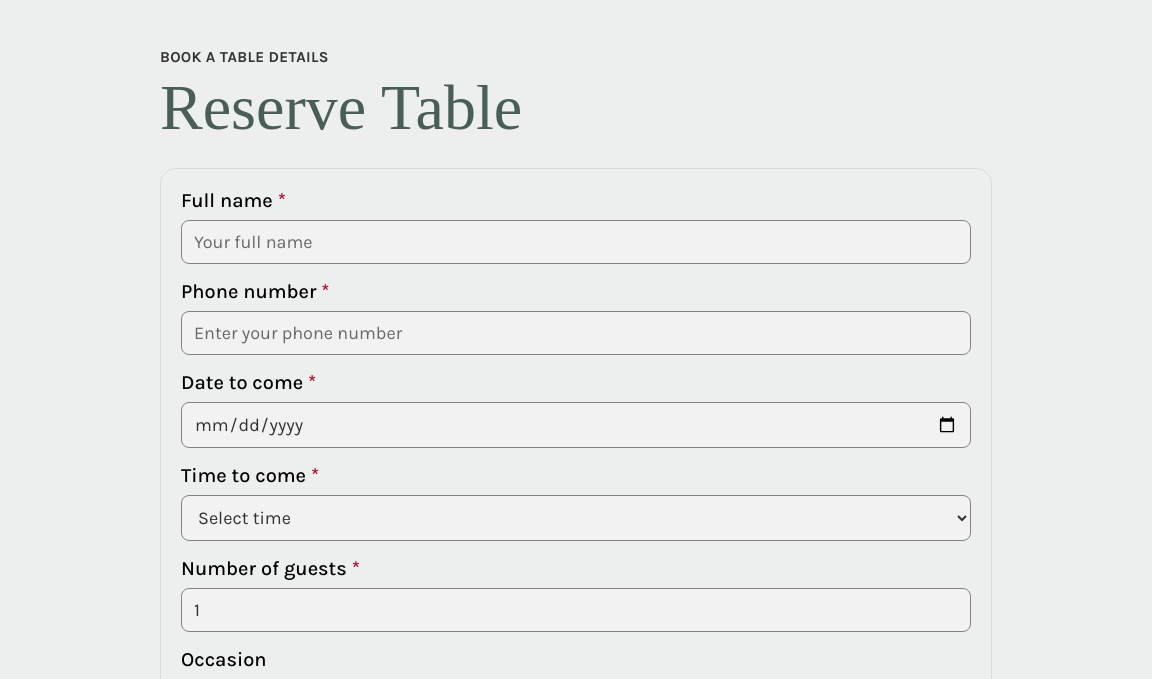
Test: submit remains disabled when time is missing
This screenshot has width=1152, height=679.
In the field labelled "Full name *": (576, 242) [181,220,971,264], type "Jim Johnson"
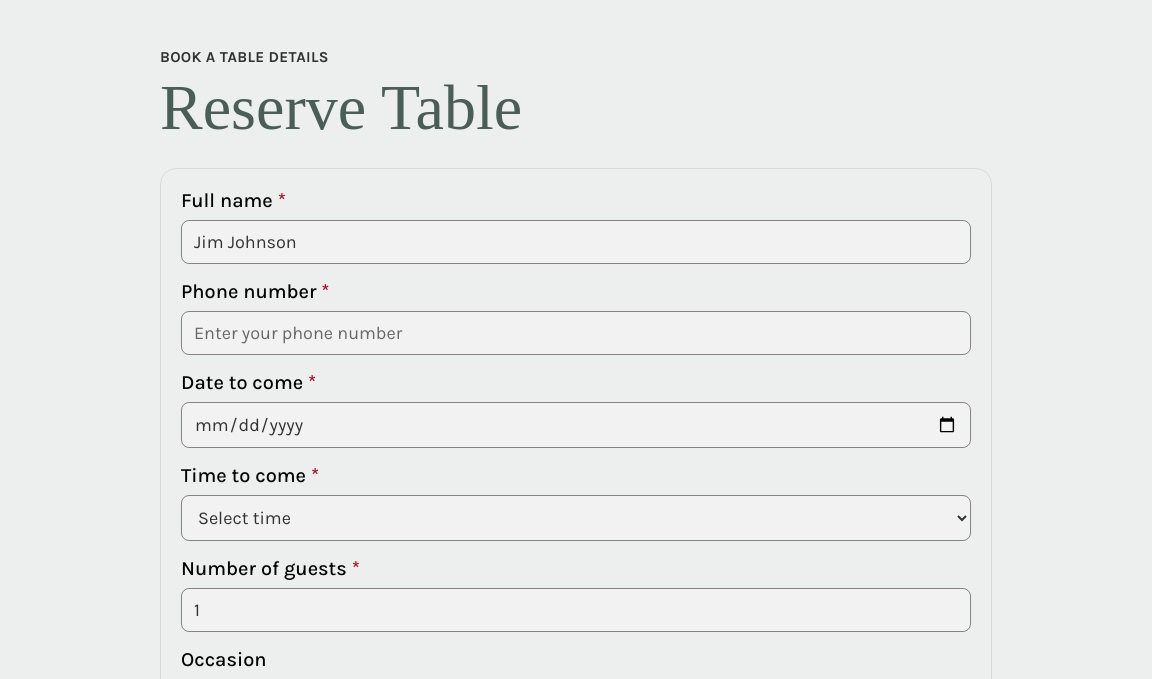
In the field labelled "Phone number *": (576, 333) [181,311,971,355], type "(555) 555-5555"
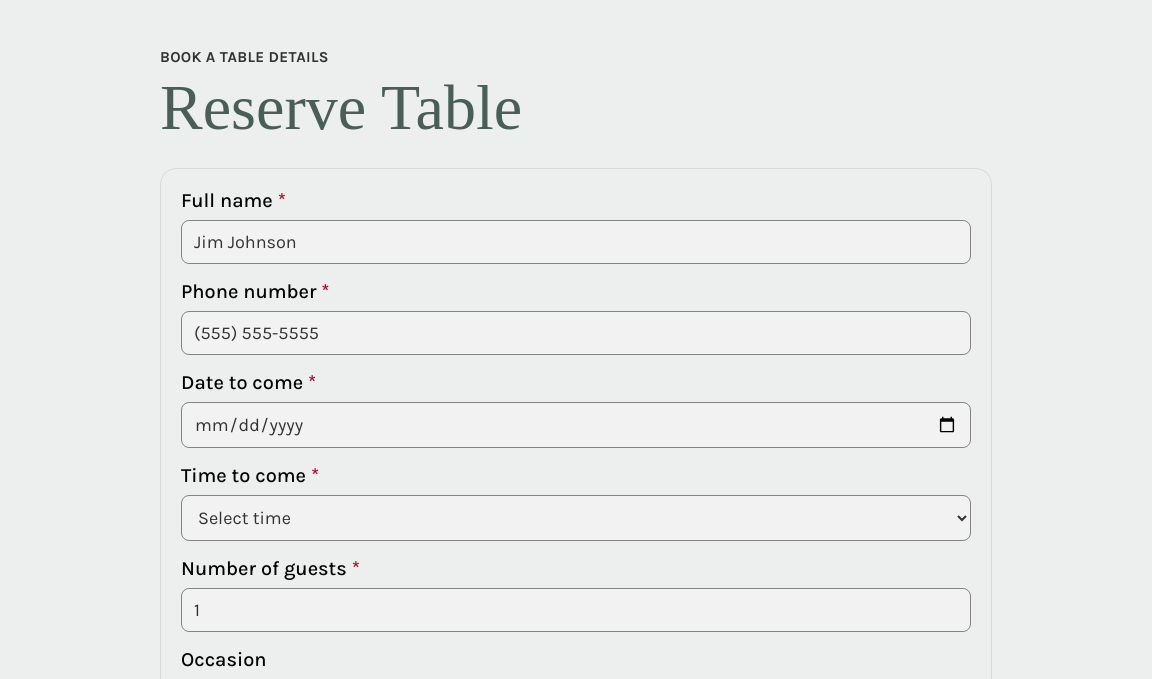
In the date field labelled "Date to come *": (576, 425) [181,402,971,448], type "2026-02-20"
(page scrolled)
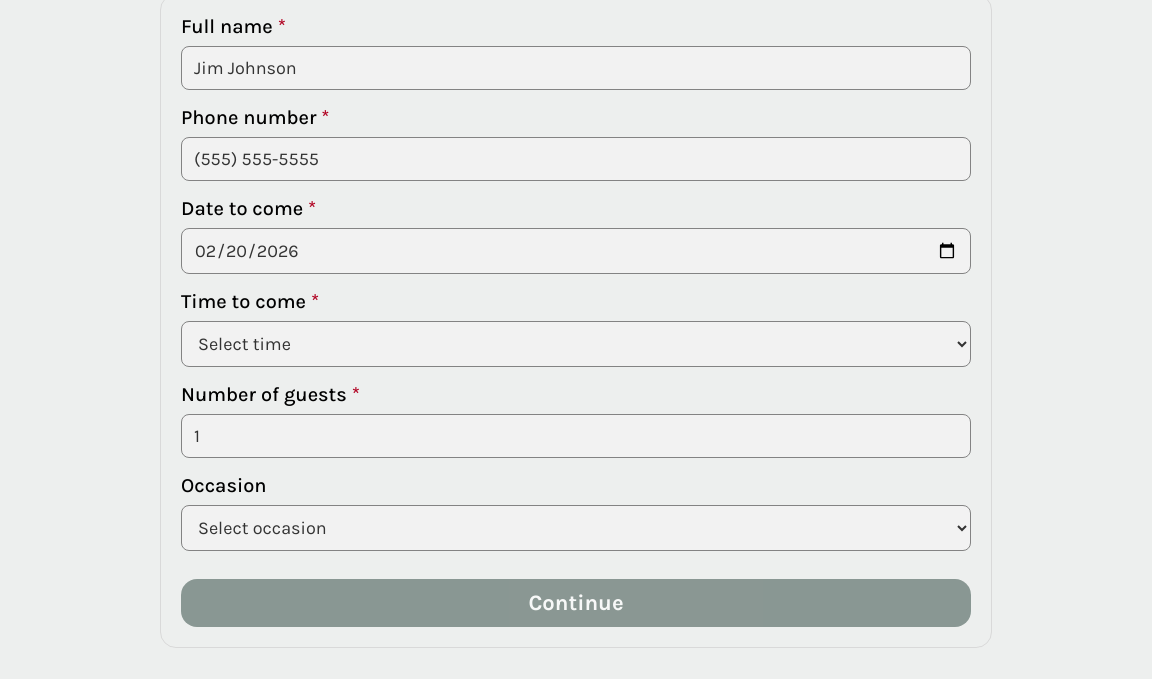
Select "Birthday" in the dropdown labelled "Occasion": (576, 528) [181,505,971,551]
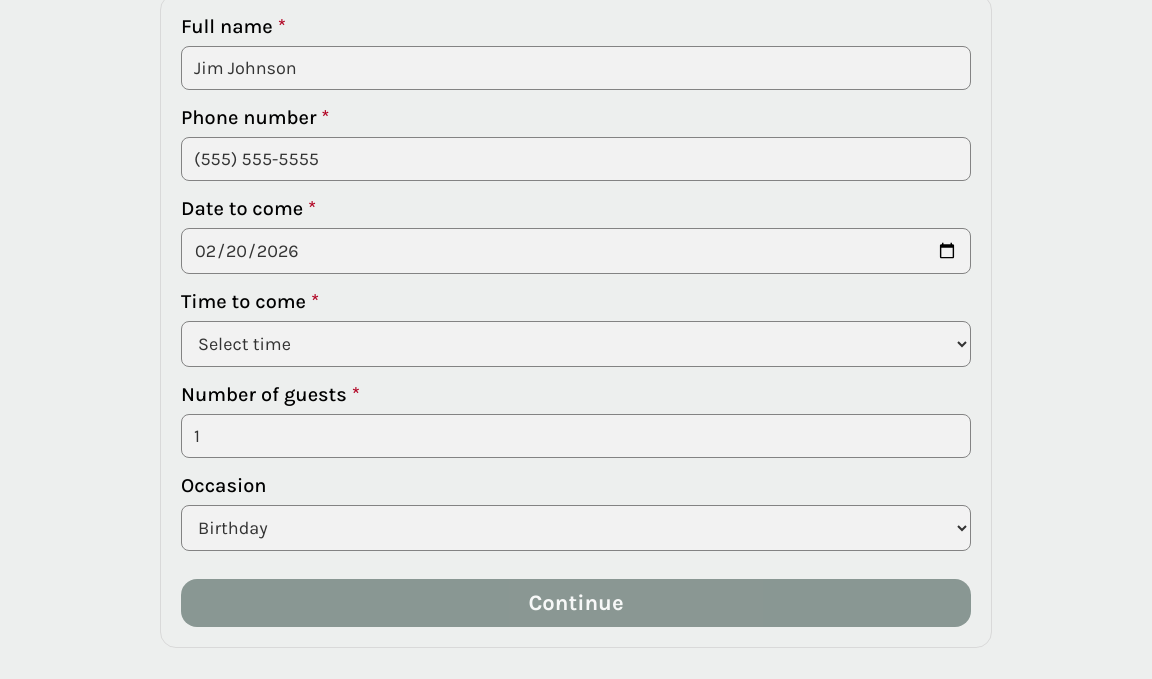
Expected: the button showing "Continue" is disabled, [181,579,971,627]
Leave the dropdown labelled "Time to come *", box [181,321,971,367]
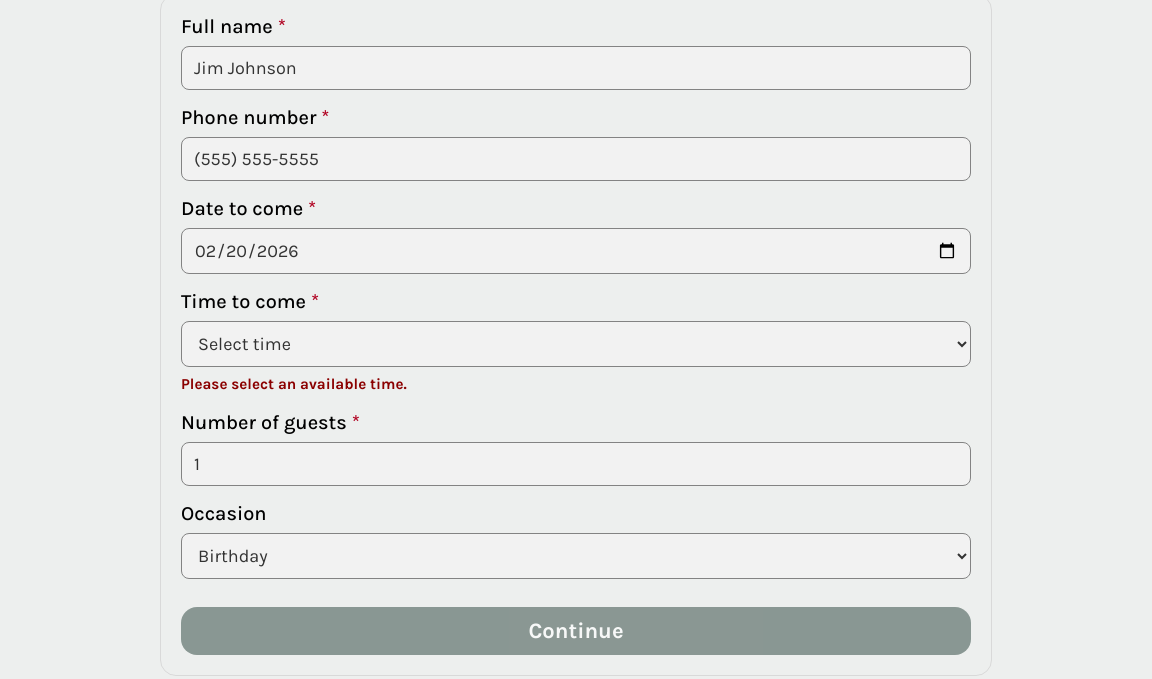
Expected: the text "Please select an available time." is shown, [181,375,407,393]
